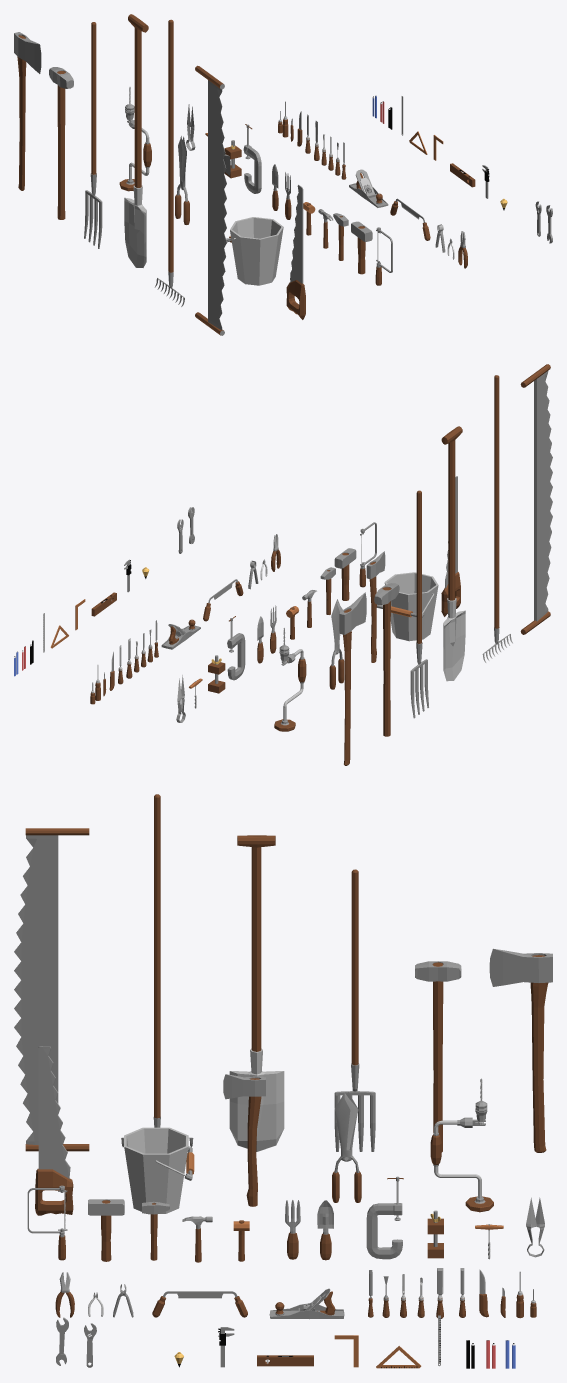
Rendered from 50_low_poly_tools.glb.
3 views of the same model, one above another, from view 1: azimuth 30°, elevation 25°; view 2: azimuth 150°, elevation 25°; view 3: azimuth 270°, elevation 25° (orthographic). The views are drawn at different scales.
Parts seen in each view (by area): view 1: Cube.004_41, Cylinder.003_4, Cylinder.041_50, Cylinder.034_37, Cylinder.015_16, Cylinder.001_2, Cylinder.022_23, Cylinder.018_19, Cylinder.002_3, Cylinder.038_44, Cylinder.031_33, Cylinder.009_10 (+1 smaller); view 2: Cube.004_41, Cylinder.041_50, Cylinder.003_4, Cylinder.034_37, Cylinder.015_16, Cylinder.001_2, Cylinder.018_19, Cylinder.002_3, Cylinder_1, Cylinder.022_23, Cylinder.038_44, Cylinder.009_10 (+2 smaller); view 3: Cube.004_41, Cylinder.041_50, Cylinder.003_4, Cylinder.001_2, Cylinder.022_23, Cylinder.015_16, Cylinder.018_19, Cylinder.034_37, Cylinder_1, Cylinder.038_44, Cylinder.002_3, Cylinder.009_10 (+5 smaller).
Part boxes in pixels (<box>): Cube.004_41: <box>195,65,226,335</box>; Cylinder.003_4: <box>226,217,283,285</box>; Cylinder.041_50: <box>124,14,148,267</box>; Cylinder.034_37: <box>154,19,184,306</box>; Cylinder.015_16: <box>84,22,102,248</box>; Cylinder.001_2: <box>14,32,41,190</box>; Cylinder.022_23: <box>286,184,305,319</box>; Cylinder.018_19: <box>49,67,73,219</box>; Cylinder.002_3: <box>119,87,151,191</box>; Cylinder.038_44: <box>175,136,189,224</box>; Cylinder.031_33: <box>349,169,388,207</box>; Cylinder.009_10: <box>243,124,261,193</box>; Cube.004_41: <box>520,364,552,634</box>; Cylinder.041_50: <box>441,426,465,681</box>; Cylinder.003_4: <box>376,572,438,641</box>; Cylinder.034_37: <box>482,375,512,662</box>; Cylinder.015_16: <box>410,490,428,718</box>; Cylinder.001_2: <box>339,592,366,765</box>; Cylinder.018_19: <box>374,583,399,736</box>; Cylinder.002_3: <box>274,627,306,731</box>; Cylinder_1: <box>366,551,385,662</box>; Cylinder.022_23: <box>441,476,460,616</box>; Cylinder.038_44: <box>329,599,344,689</box>; Cylinder.009_10: <box>227,616,245,680</box>; Cube.004_41: <box>14,828,89,1151</box>; Cylinder.041_50: <box>229,835,284,1151</box>; Cylinder.003_4: <box>124,1127,194,1213</box>; Cylinder.001_2: <box>489,948,552,1152</box>; Cylinder.022_23: <box>35,1046,73,1215</box>; Cylinder.015_16: <box>334,869,375,1151</box>; Cylinder.018_19: <box>415,961,461,1152</box>; Cylinder.034_37: <box>121,794,193,1147</box>; Cylinder_1: <box>223,1074,265,1206</box>; Cylinder.038_44: <box>332,1092,361,1202</box>; Cylinder.002_3: <box>430,1078,493,1212</box>; Cylinder.009_10: <box>366,1176,403,1259</box>.
Bounding box in the file's own units: 2.05 × 1.61 × 2.13.
Materials: 51 (51 with a texture image).
